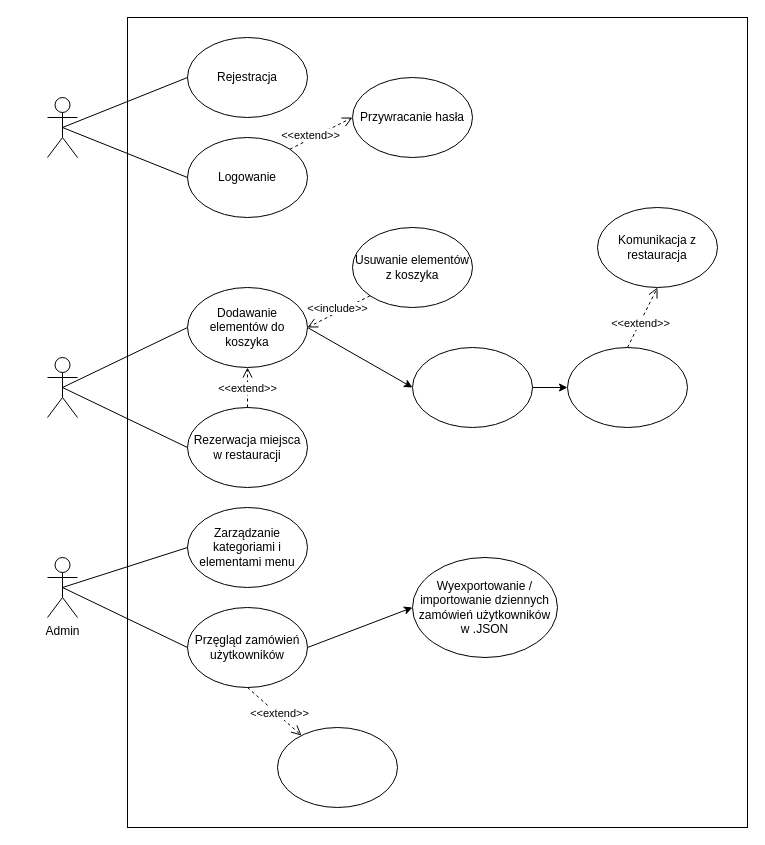
This 765x845 diagram has some shape labels left out. The shapes that lost their labels are listed below. From the top down, each one's box as (x1, y1, x2, y2) in pixels, then its label:
(46, 96, 78, 158): Użytkownik nieautoryzowany
(46, 356, 78, 418): Użytkownik autoryzowany
(412, 346, 532, 428): Składanie zamówienia
(566, 346, 688, 428): Opłata zamówienia
(276, 726, 398, 808): Zarządzanie zamówieniami
